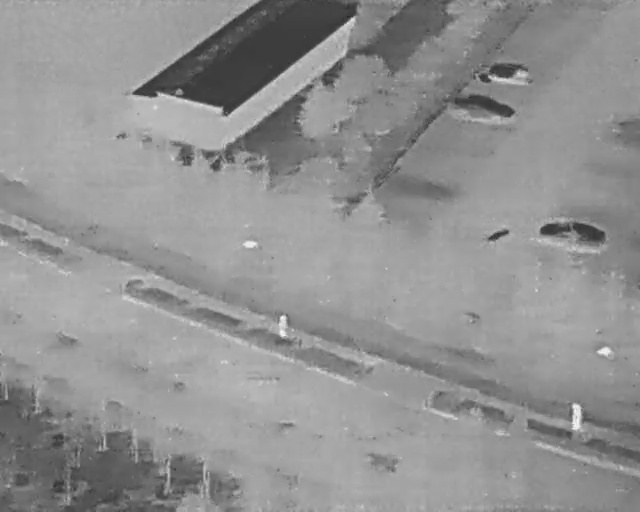Car: (441, 85, 521, 130), (535, 214, 610, 252), (471, 57, 535, 90)
Person: (274, 311, 292, 340), (568, 401, 583, 434)
